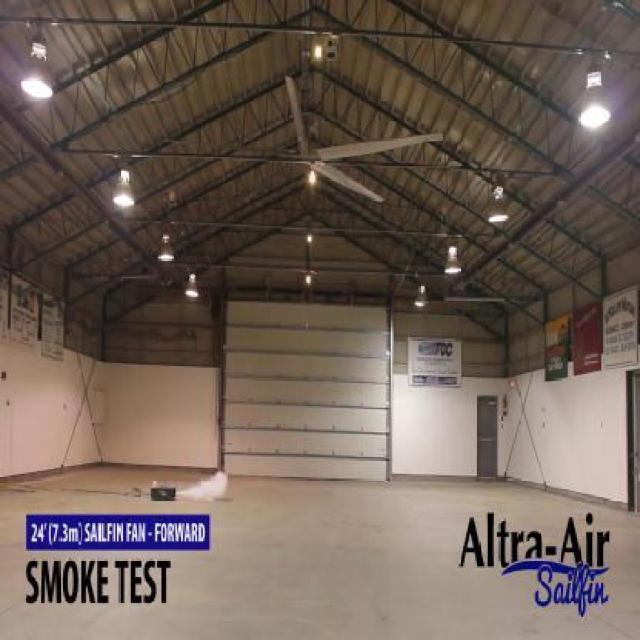fire: (183, 467, 237, 505)
